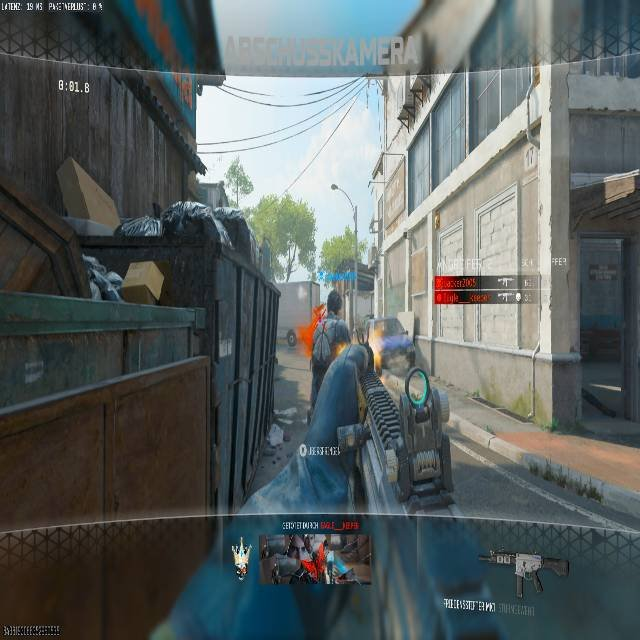head: (365, 313, 417, 370), (327, 290, 341, 314)
player: (306, 291, 350, 410), (322, 290, 351, 356), (397, 77, 429, 132), (287, 327, 295, 347)
